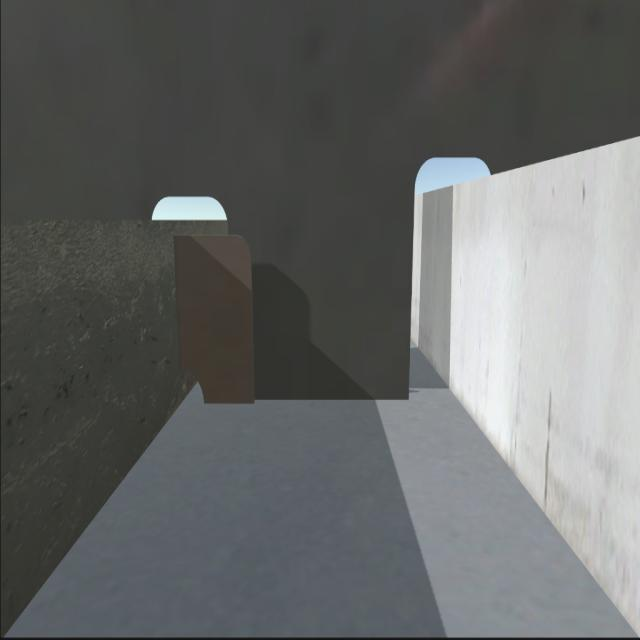fillet_hole: (182, 370, 208, 404)
fillet_yong_jeop_jang: (196, 387, 413, 410)
longi_yong_jeop_jang: (171, 233, 190, 375)
plate_CP05: (172, 229, 258, 398)
